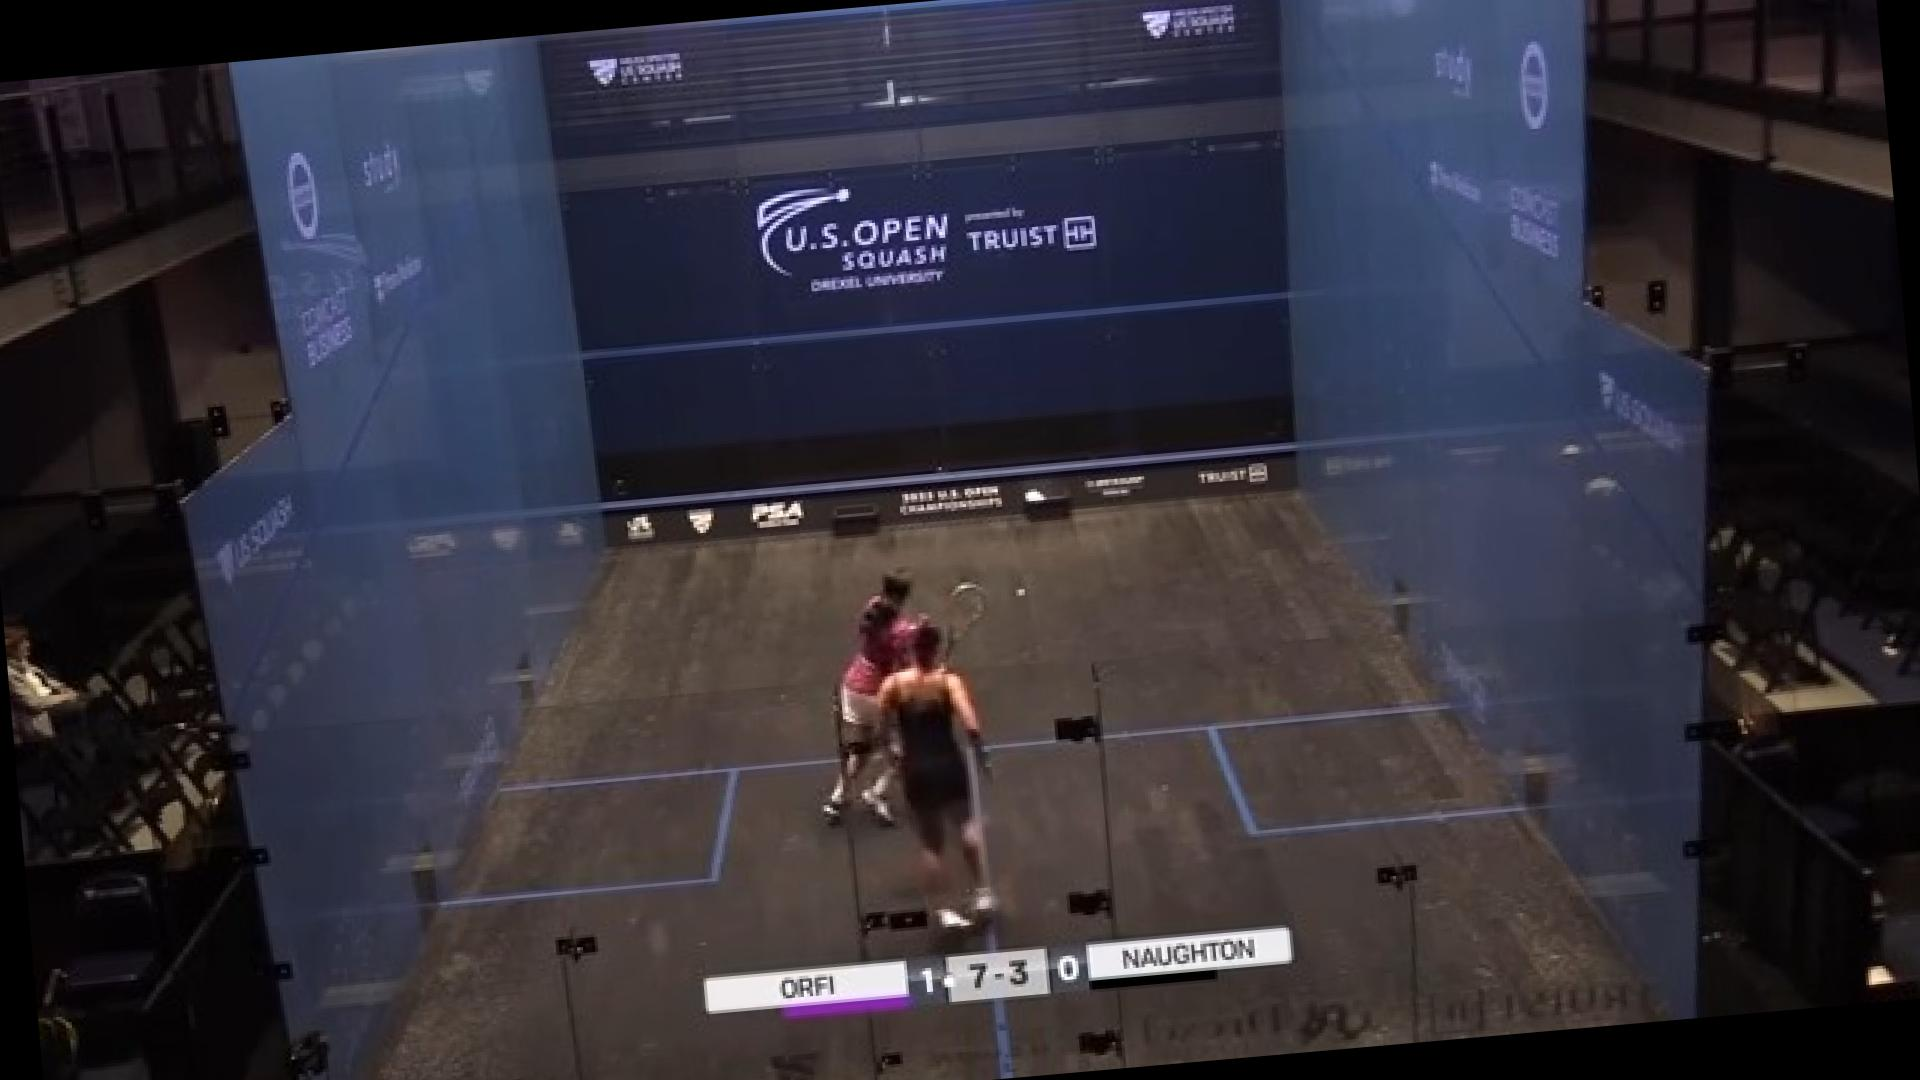Squash-Ball: (1004, 575, 1042, 611)
